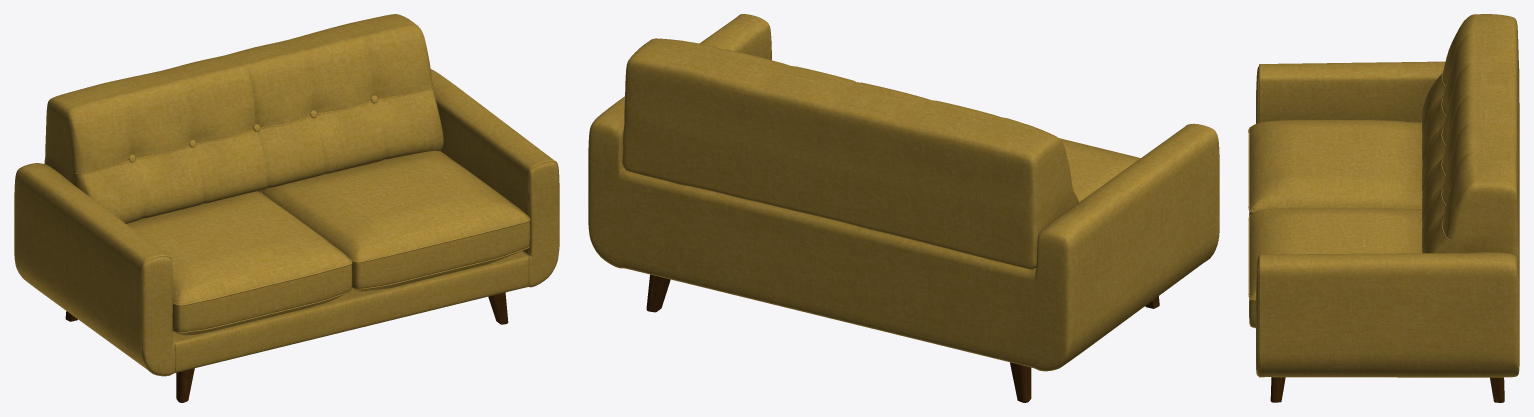
The model's file is B07P5LMN2C.glb.
The picture shows the model from 3 angles, left to right: view 1: azimuth 30°, elevation 25°; view 2: azimuth 150°, elevation 25°; view 3: azimuth 270°, elevation 25°; orthographic projection. The views are drawn at different scales.
Parts seen in each view (by area): view 1: RootNode; view 2: RootNode; view 3: RootNode.
Boxes of the visible parts, left/top/right/bottom form: RootNode: left=14, top=14, right=559, bottom=402; RootNode: left=588, top=14, right=1219, bottom=402; RootNode: left=1248, top=14, right=1519, bottom=402.
Bounding box in the file's own units: 1.63 × 0.8407 × 0.9094.
Materials: 1 (1 with a texture image).
